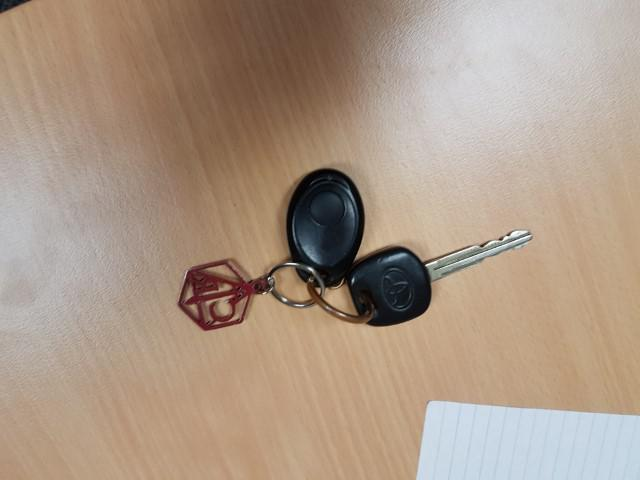key: (353, 227, 540, 330)
